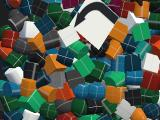Left: (70, 0, 120, 50)
